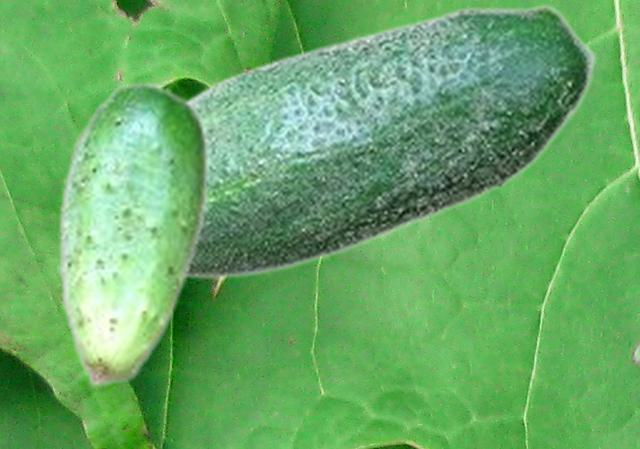cucumber: (185, 3, 597, 279), (57, 80, 208, 387)
